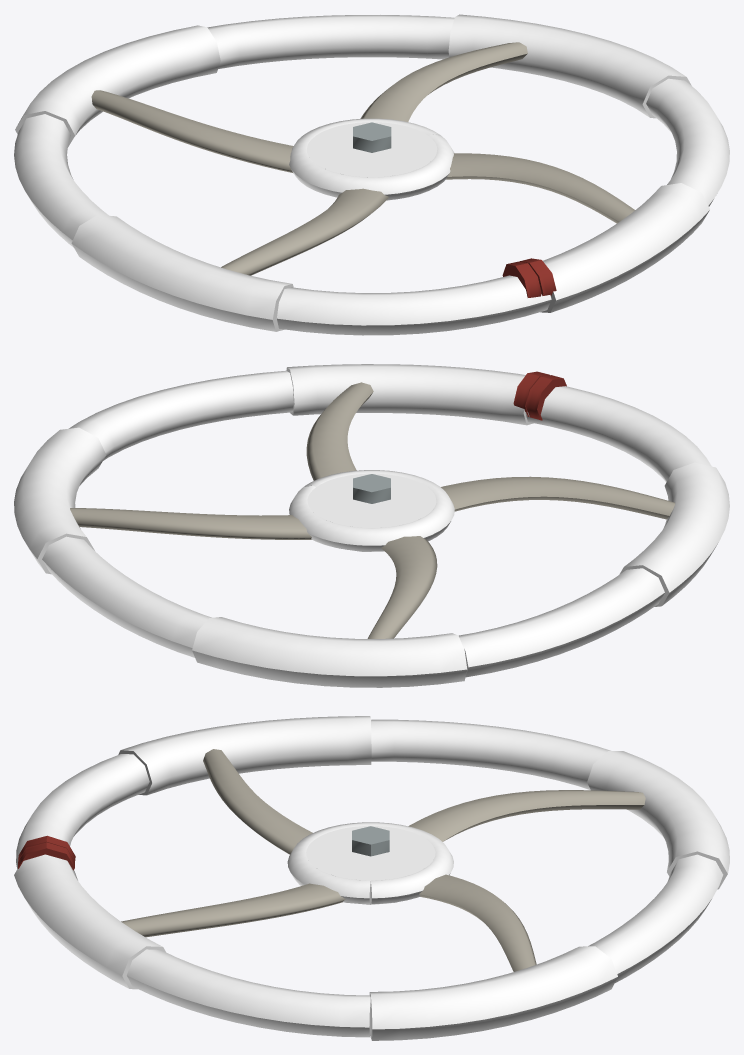
The model's file is Wheel_04_N_白鉛・細墨.glb.
The picture shows the model from 3 angles, top to bottom: view 1: azimuth 30°, elevation 25°; view 2: azimuth 150°, elevation 25°; view 3: azimuth 270°, elevation 25°; orthographic projection.
Parts seen in each view (by area): view 1: Wheel_04_N; view 2: Wheel_04_N; view 3: Wheel_04_N.
Boxes of the visible parts, x1,y1,x2,y2 form: Wheel_04_N: (14, 14, 729, 335); Wheel_04_N: (14, 364, 729, 687); Wheel_04_N: (14, 716, 729, 1040).
Bounding box in the file's own units: 0.326 × 0.0299 × 0.3267.
4 materials, 4 textured.
